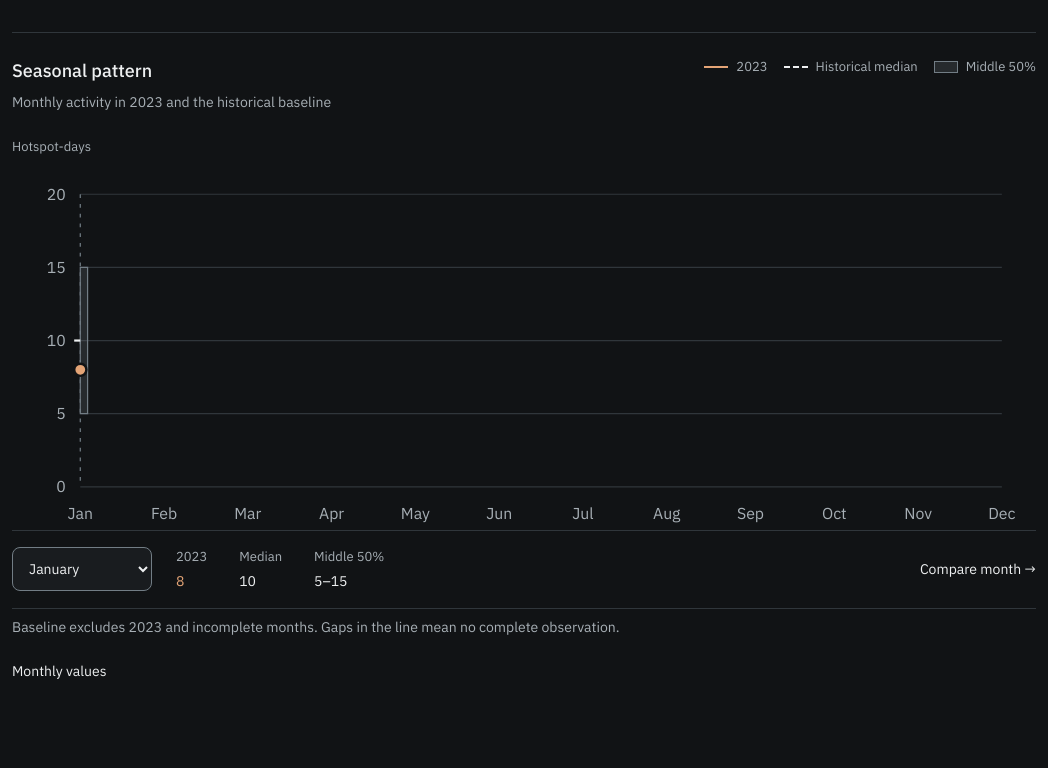
exposes exact month values and disables comparison for missing observations
This screenshot has width=1048, height=768.
Select "February" in the dropdown: (82,570) [12,548,152,592]
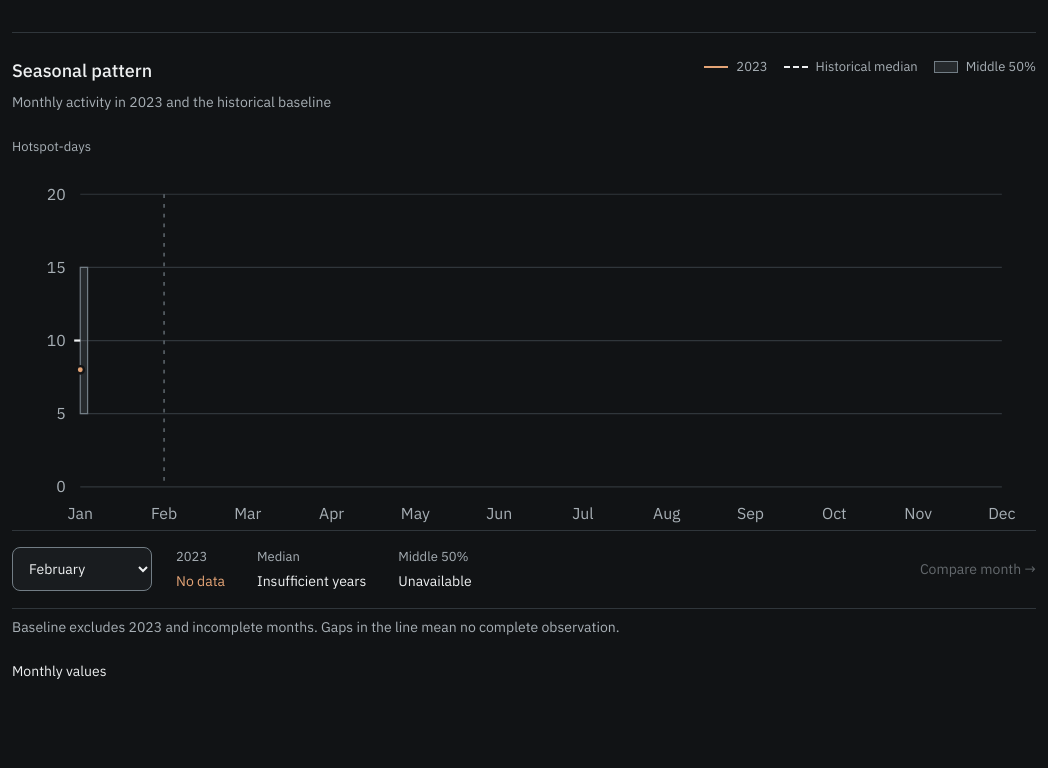
Expected: the button "Compare month →" is disabled, [920,548,1036,592]
